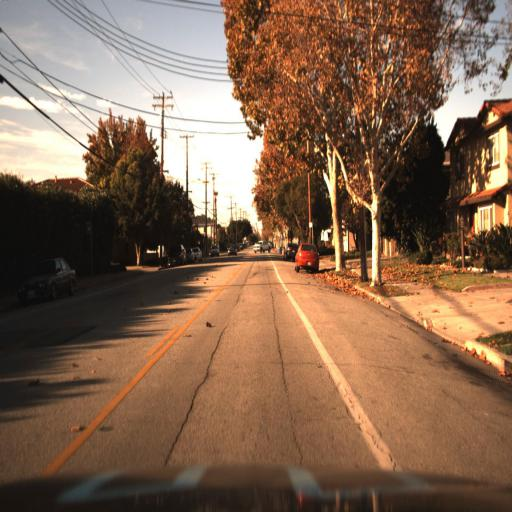car: (11, 239, 76, 311), (293, 240, 325, 276), (294, 237, 318, 278), (165, 236, 188, 269), (252, 238, 273, 254), (283, 238, 295, 264), (226, 239, 237, 258), (187, 244, 198, 262), (209, 244, 221, 259), (194, 244, 204, 261)
